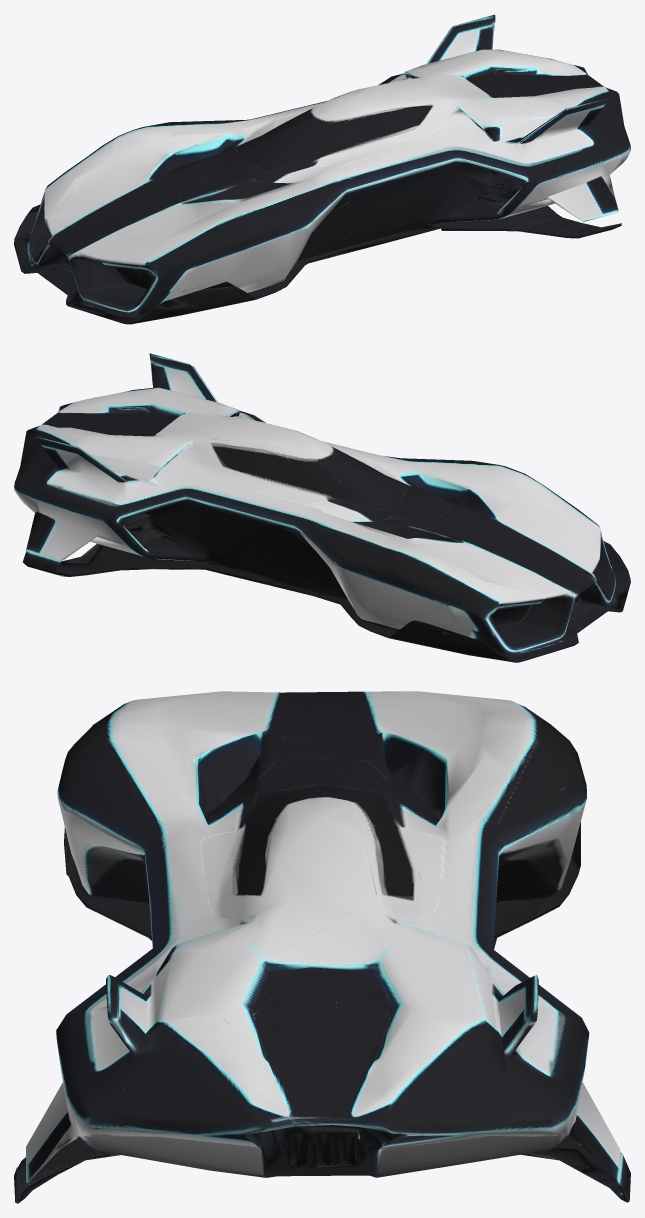
Rendered from racer_optimized-team3.glb.
3 renders of one model, top to bottom at view 1: azimuth 30°, elevation 25°; view 2: azimuth 150°, elevation 25°; view 3: azimuth 270°, elevation 25°, orthographic. The views are drawn at different scales.
Size of the model in its own units: 1.9 by 0.3782 by 0.9647.
1 material, 1 textured.
